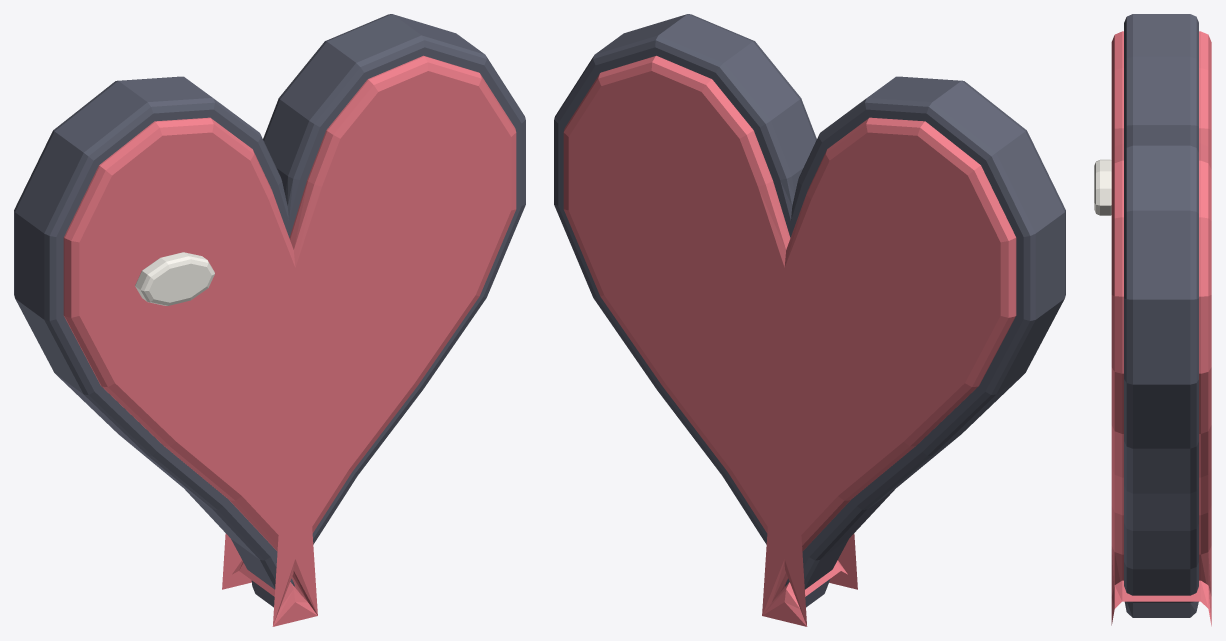
File: game-ui-icon-library-heart-4126fdc7__18981.glb
3 renders of one model, left to right at view 1: azimuth 30°, elevation 25°; view 2: azimuth 150°, elevation 25°; view 3: azimuth 270°, elevation 25°, orthographic.
Visible parts, largest first — view 1: heart; view 2: heart; view 3: heart.
Boxes of the visible parts, x1,y1,x2,y2 form: heart: (14,14,525,626); heart: (554,14,1065,626); heart: (1094,14,1211,626).
Size of the model in its own units: 0.8652 by 0.94 by 0.1855.
